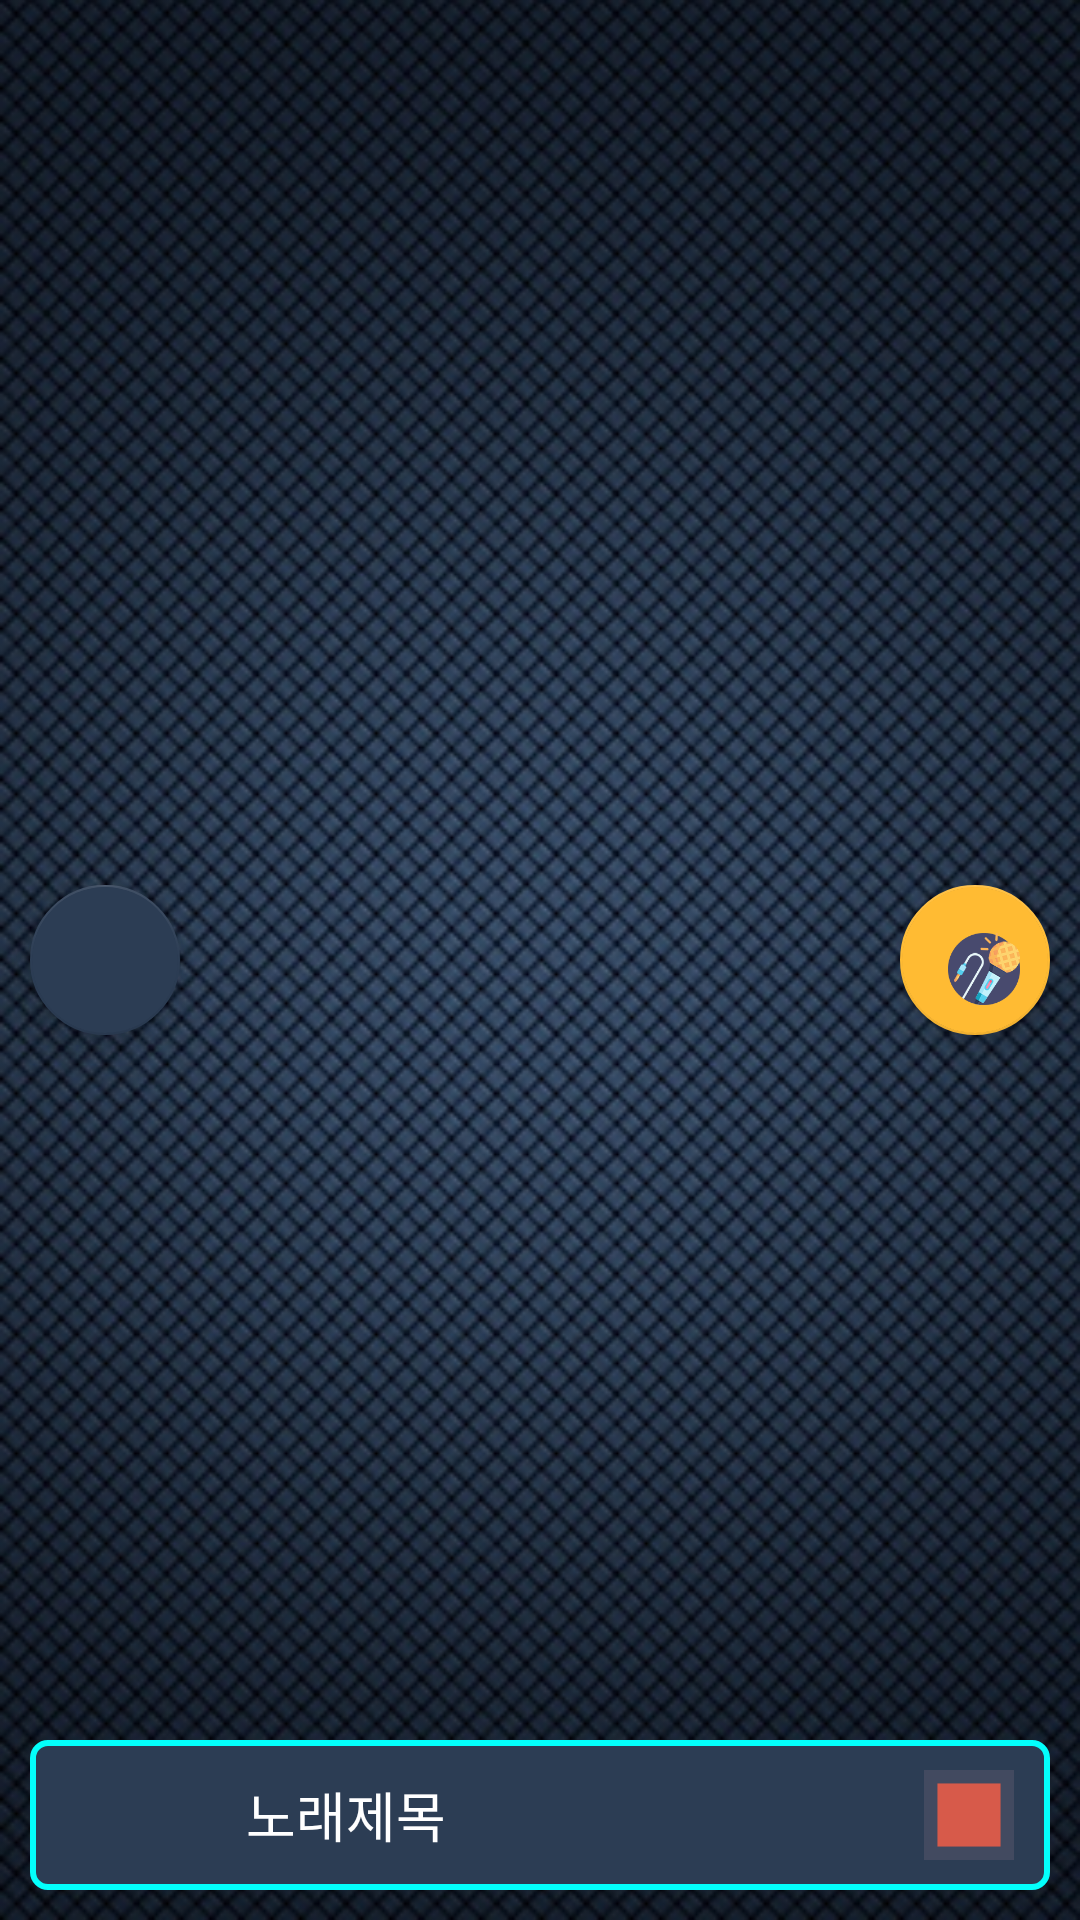

Icon click points for this 1080px×1920px phone screenshot, format (x,y):
perfect singer activity sing: (975,960)
